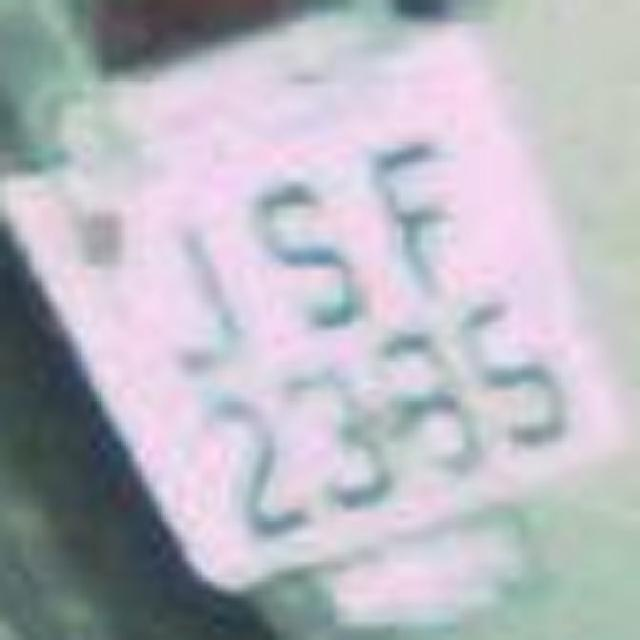2: (172, 368, 332, 544)
3: (276, 340, 424, 525)
5: (416, 276, 589, 449)
F: (364, 120, 491, 320)
J: (140, 188, 260, 380)
S: (240, 160, 375, 345)
